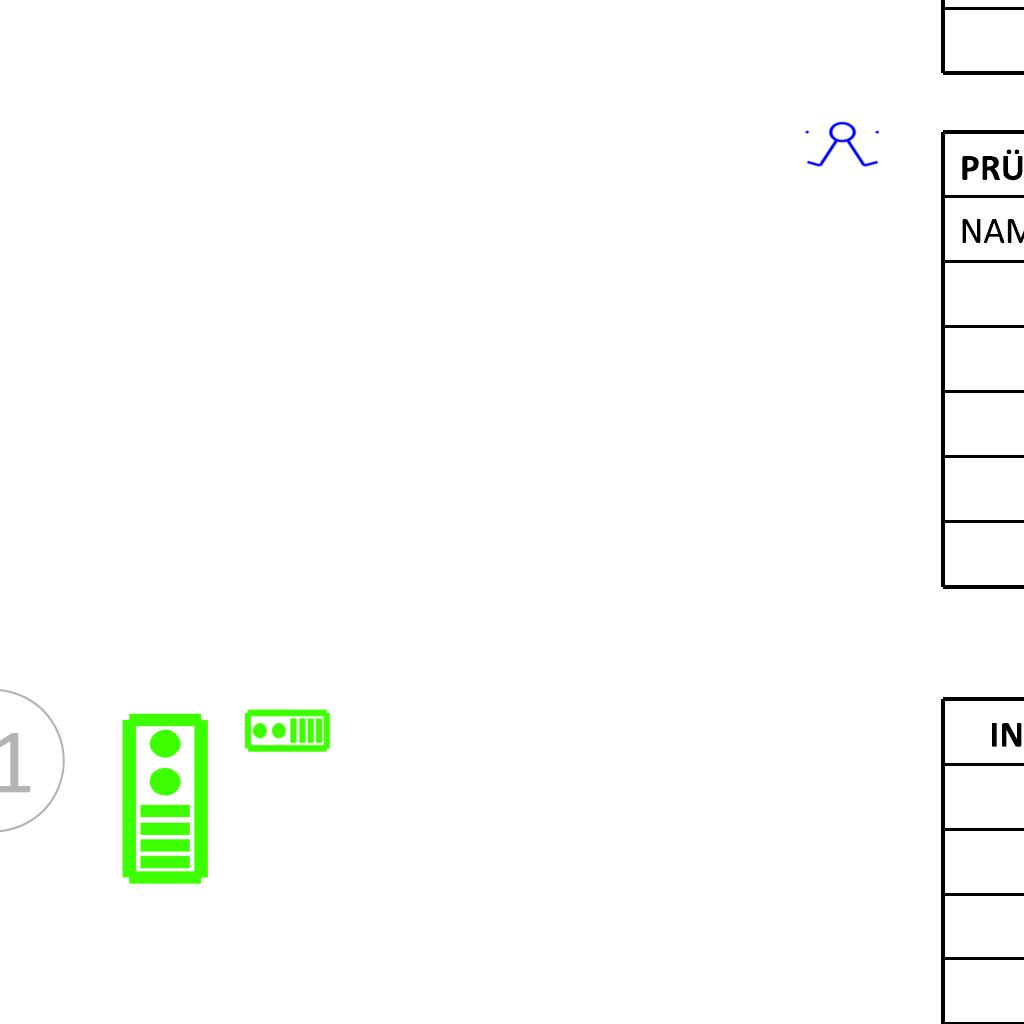Gegensprechanlage_mit_Video: (116, 710, 211, 886), (243, 708, 331, 755)
Serienschalter: (801, 121, 885, 169)
